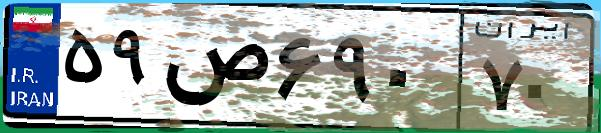0: (385, 28, 445, 110), (525, 38, 570, 115)
5: (57, 26, 110, 100)
6: (270, 28, 330, 110)
7: (475, 38, 525, 113)
9: (330, 28, 385, 110), (110, 28, 158, 98)
ص: (158, 20, 270, 120)
